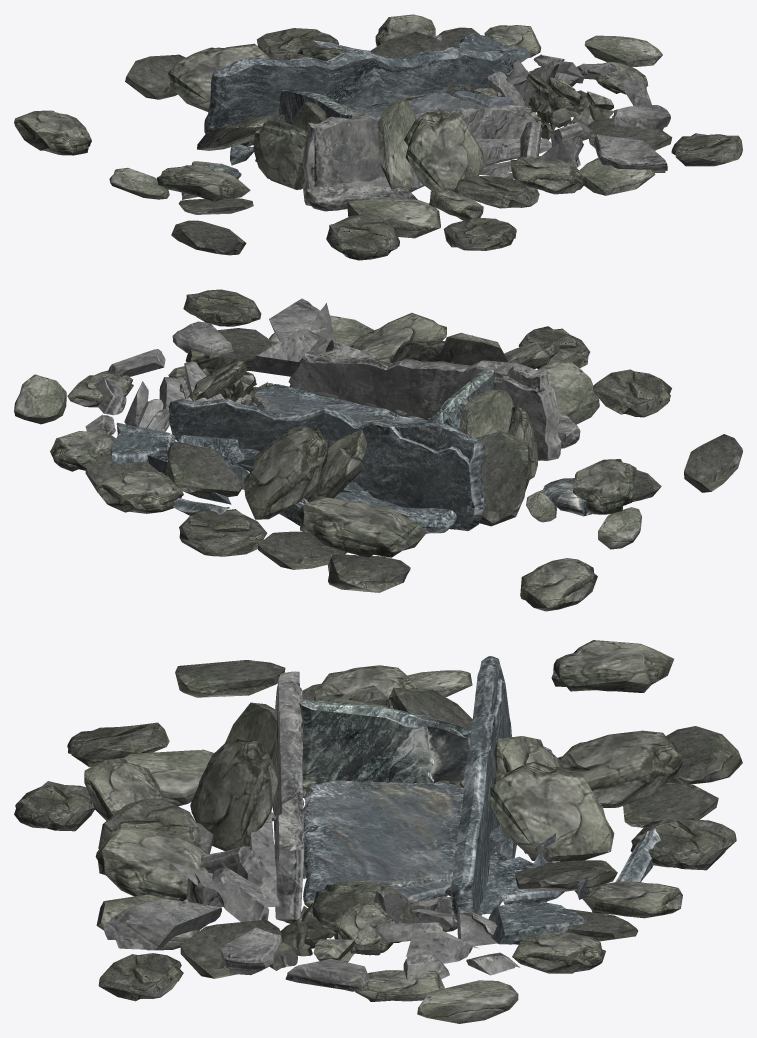
File: FBX_Trikuharri_Hondatua_Escalado.fbx
3 views of the same model, one above another, from view 1: azimuth 30°, elevation 25°; view 2: azimuth 150°, elevation 25°; view 3: azimuth 270°, elevation 25° (orthographic). The views are drawn at different scales.
Parts seen in each view (by area): view 1: Trikuharri_Hondatua; view 2: Trikuharri_Hondatua; view 3: Trikuharri_Hondatua.
Part boxes in pixels (box(x1,y1,x2,y2)): Trikuharri_Hondatua: box(14, 14, 742, 260); Trikuharri_Hondatua: box(14, 289, 742, 611); Trikuharri_Hondatua: box(14, 640, 742, 1023).
Size of the model in its own units: 2.01 by 0.3198 by 1.71.
1 material, 1 textured.
